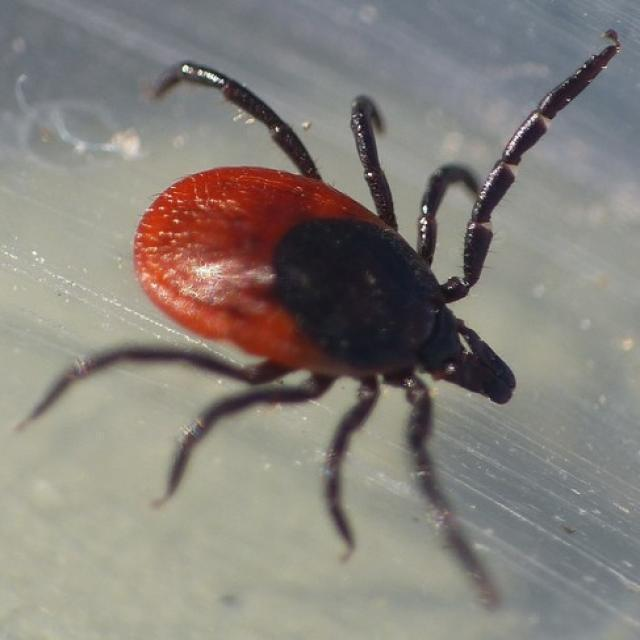Ixodes Ricinus-F: (16, 31, 622, 564)
